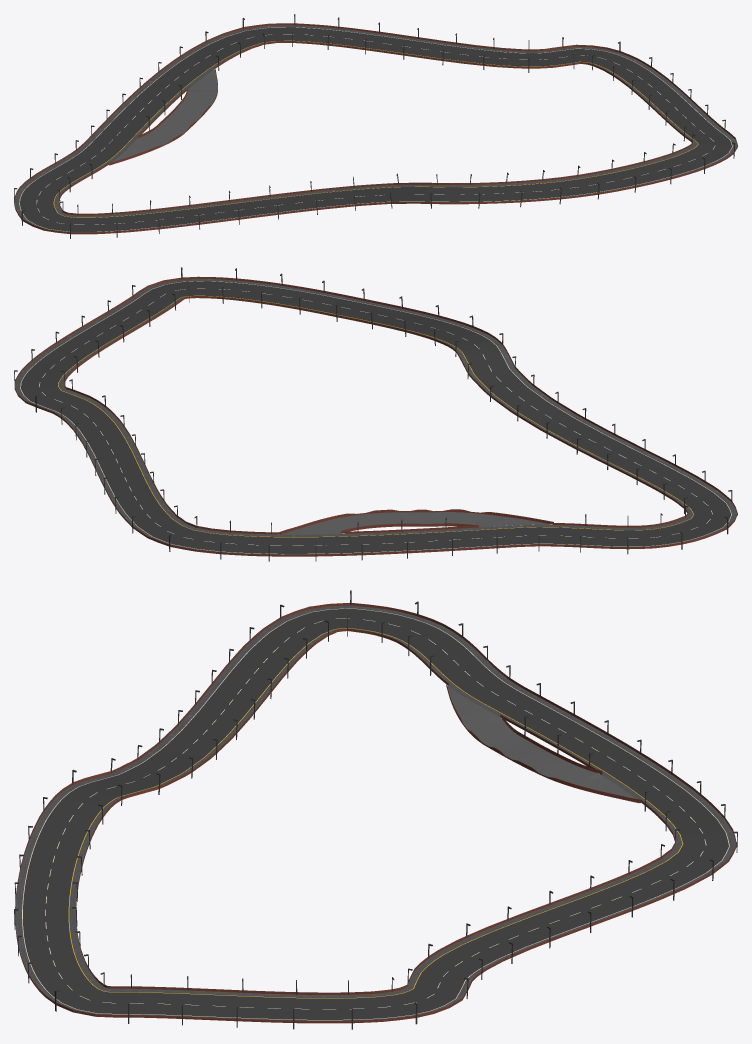
The model's file is pitstop.fbx.
3 views of the same model, one above another, from view 1: azimuth 30°, elevation 25°; view 2: azimuth 150°, elevation 25°; view 3: azimuth 270°, elevation 25° (orthographic). The views are drawn at different scales.
Visible parts, largest first — view 1: road, gravel, barrierWhite.001, barrierYellow.001, pit; view 2: road, gravel, barrierWhite.001, barrierYellow.001, pit, barrierYellow; view 3: road, gravel, barrierWhite.001, barrierYellow.001, pit, barrierYellow.
Part boxes in pixels (x1=…): road: x1=20, y1=27, x2=731, y2=231; gravel: x1=14, y1=25, x2=737, y2=232; barrierWhite.001: x1=14, y1=14, x2=737, y2=238; barrierYellow.001: x1=56, y1=31, x2=695, y2=215; pit: x1=109, y1=70, x2=217, y2=164; road: x1=21, y1=281, x2=731, y2=553; gravel: x1=15, y1=279, x2=737, y2=554; barrierWhite.001: x1=14, y1=267, x2=737, y2=561; barrierYellow.001: x1=61, y1=285, x2=688, y2=534; pit: x1=281, y1=512, x2=551, y2=534; barrierYellow: x1=279, y1=509, x2=553, y2=533; road: x1=23, y1=608, x2=728, y2=1019; gravel: x1=15, y1=605, x2=736, y2=1020; barrierWhite.001: x1=14, y1=590, x2=737, y2=1029; barrierYellow.001: x1=72, y1=615, x2=679, y2=994; pit: x1=447, y1=685, x2=639, y2=803; barrierYellow: x1=446, y1=683, x2=641, y2=802.
Size of the model in its own units: 11496 by 589 by 8421.
Materials: 2 (2 with a texture image).
